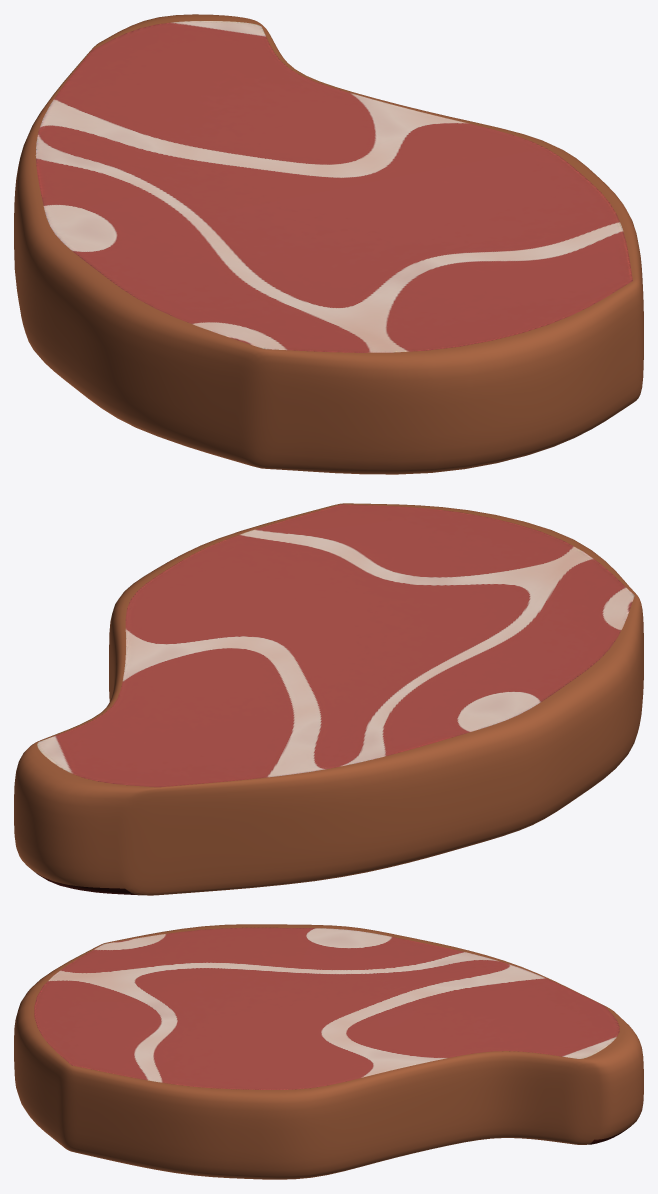
Rendered from daging.fbx.
3 views of the same model, one above another, from view 1: azimuth 30°, elevation 25°; view 2: azimuth 150°, elevation 25°; view 3: azimuth 270°, elevation 25° (orthographic). The views are drawn at different scales.
Visible parts, largest first — view 1: meat; view 2: meat; view 3: meat.
Part boxes in pixels (x1=…): meat: x1=14, y1=14, x2=643, y2=474; meat: x1=14, y1=503, x2=643, y2=895; meat: x1=14, y1=924, x2=643, y2=1179.
Bounding box in the file's own units: 36.11 × 8.14 × 53.43.
2 materials, 1 textured.
